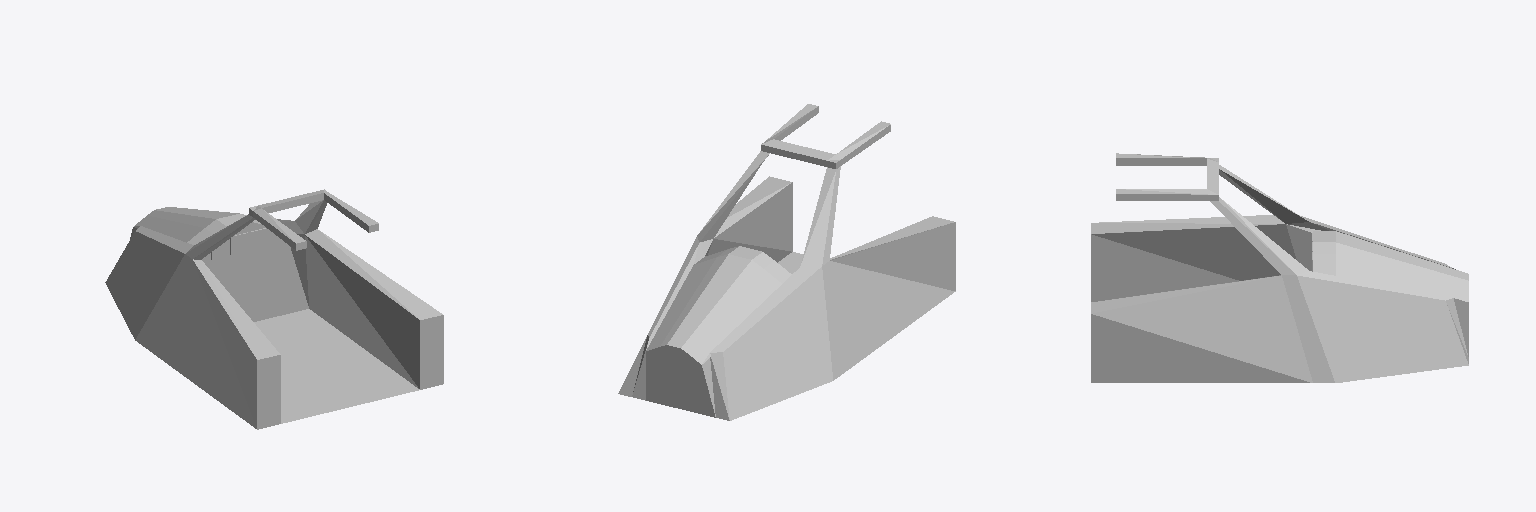
File: CockpitV1.obj
3 views of the same model, side by side, from view 1: azimuth 30°, elevation 25°; view 2: azimuth 150°, elevation 25°; view 3: azimuth 270°, elevation 25° (orthographic).
Visible parts, largest first — view 1: Cube_Cube.002; view 2: Cube_Cube.002; view 3: Cube_Cube.002.
Boxes of the visible parts, x1=… form: Cube_Cube.002: x1=105, y1=189, x2=443, y2=429; Cube_Cube.002: x1=618, y1=104, x2=955, y2=420; Cube_Cube.002: x1=1091, y1=153, x2=1468, y2=382.
Size of the model in its own units: 5.6 by 4.73 by 9.84.